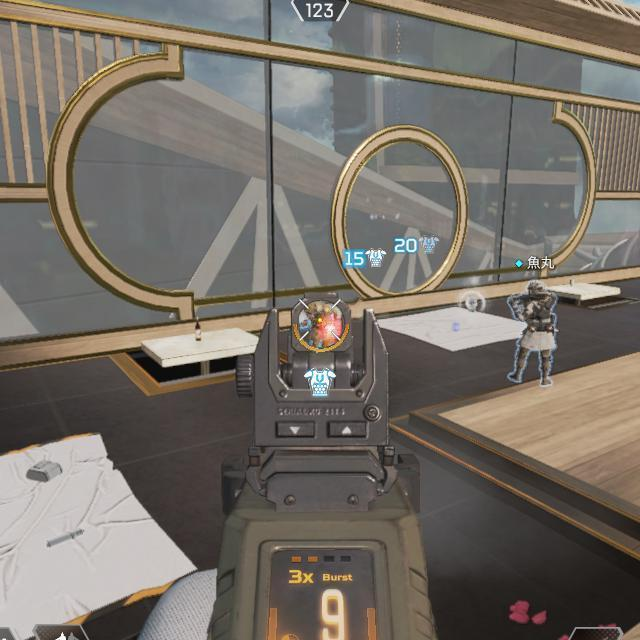avatar: (506, 277, 561, 389)
